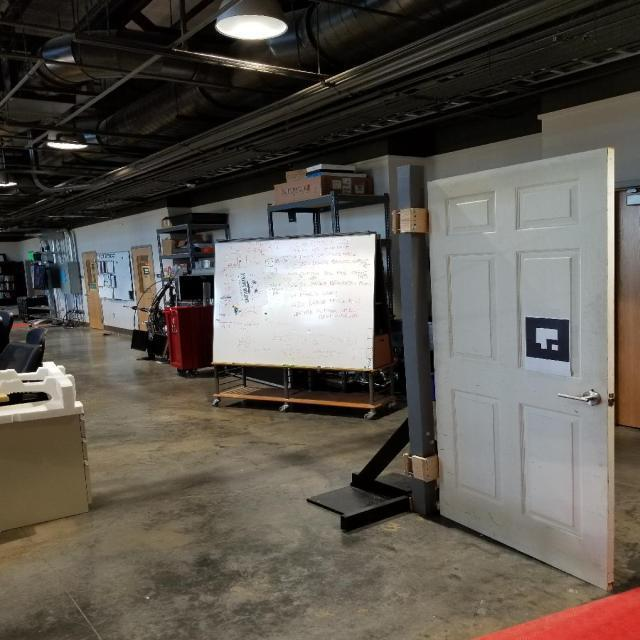door: (424, 145, 623, 592), (554, 388, 602, 408)
